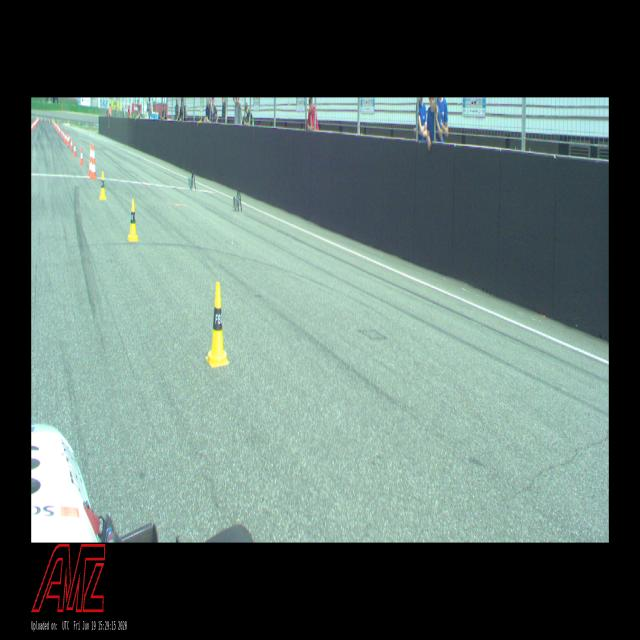large_orange_cone: (90, 144, 96, 178), (88, 143, 92, 176)
orange_cone: (80, 148, 84, 165), (73, 142, 77, 156), (70, 138, 73, 150), (66, 135, 69, 145), (68, 134, 70, 144)
yellow_cone: (206, 283, 229, 367), (127, 199, 139, 241), (100, 171, 106, 200)
